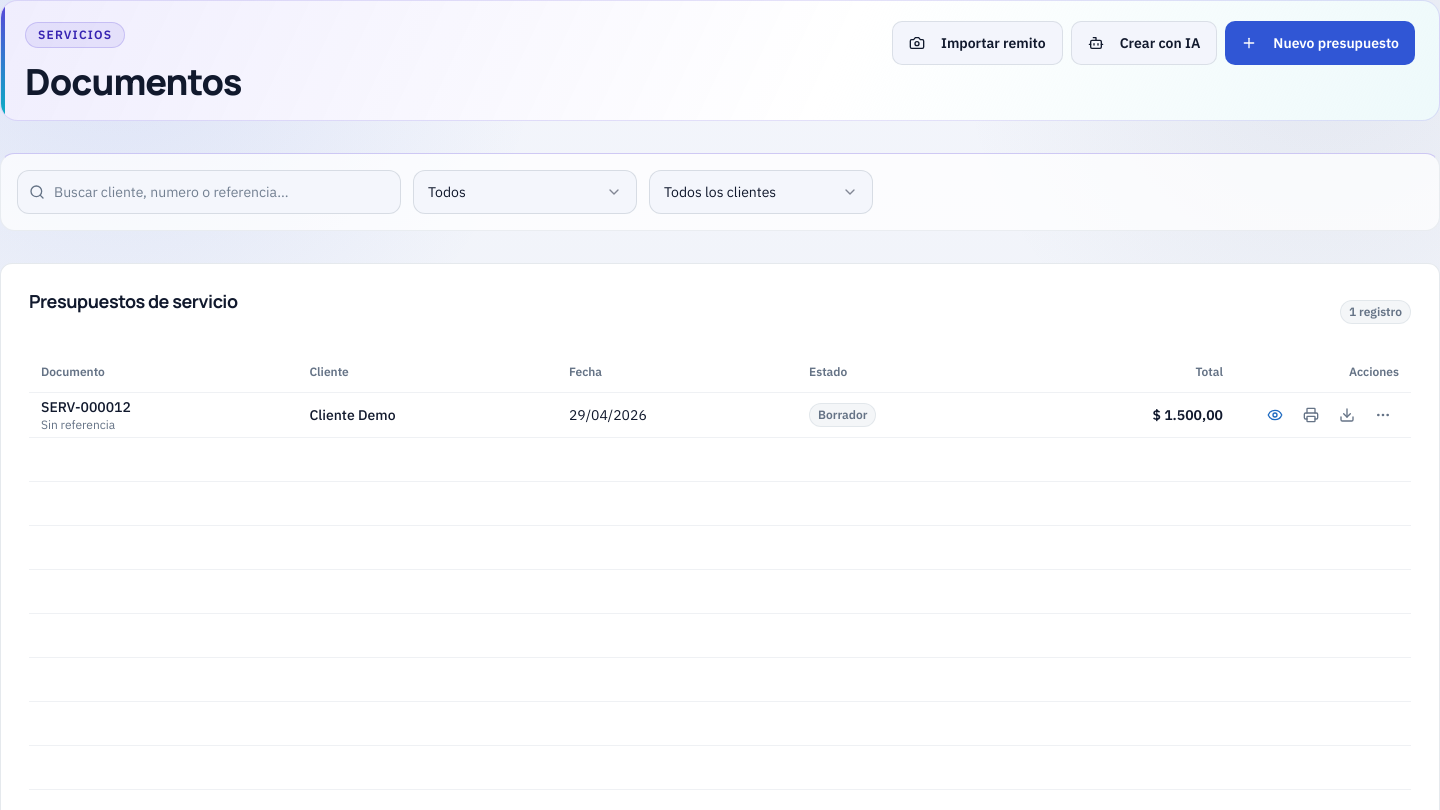
ServiceDocumentsPage › opens the AI assistant and renders a generated price preview
Step 1. Click the button "Crear con IA" → (1144, 43), box [1071,21,1217,65]
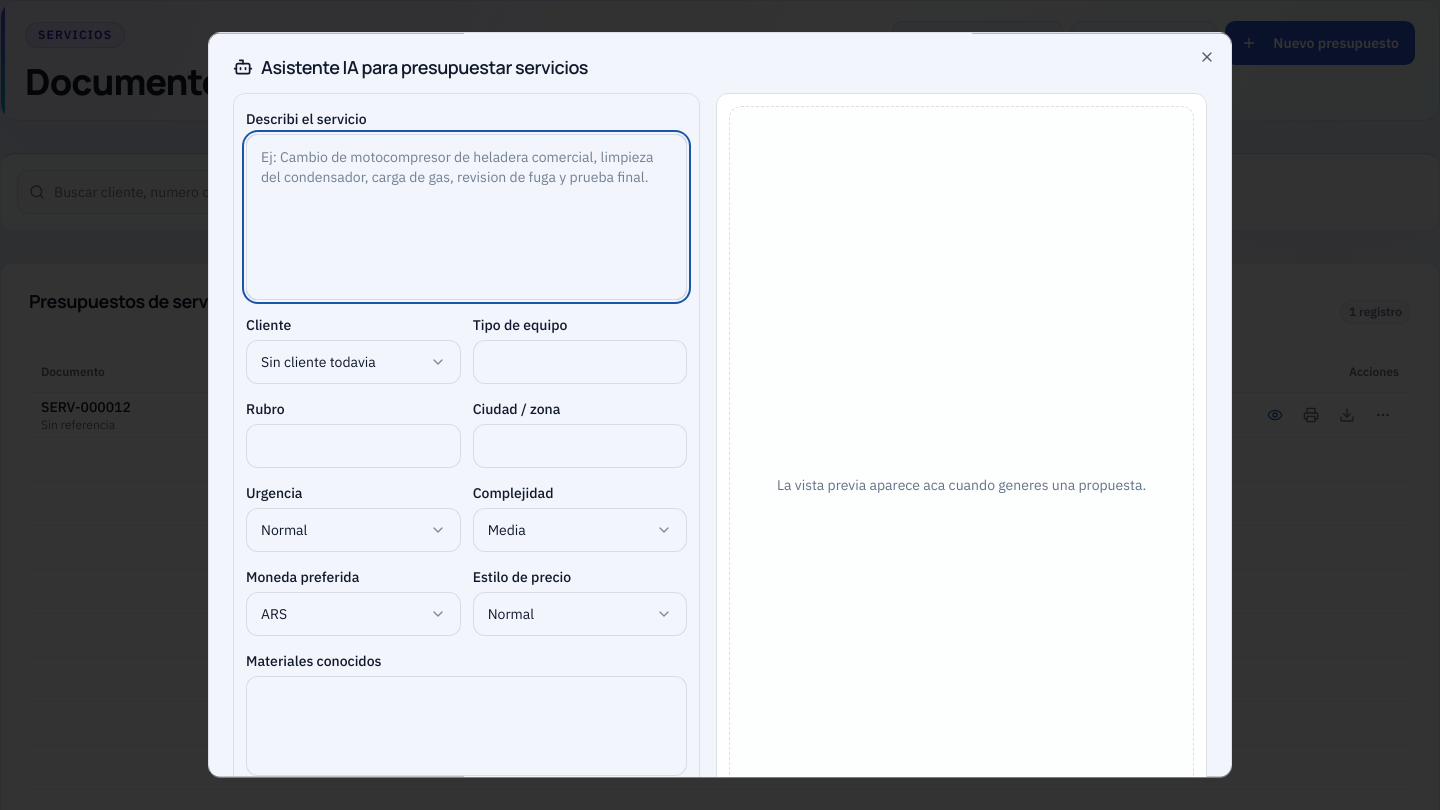
Result: the heading "Asistente IA para presupuestar servicios" is shown at [233,55,588,79]
Step 2. Replace the text in the text box with placeholder "Cambio de motocompresor" with "Limpieza de aire acondicionado split, revision y prueba." → (467, 217), box [246,134,687,300]
(page scrolled)
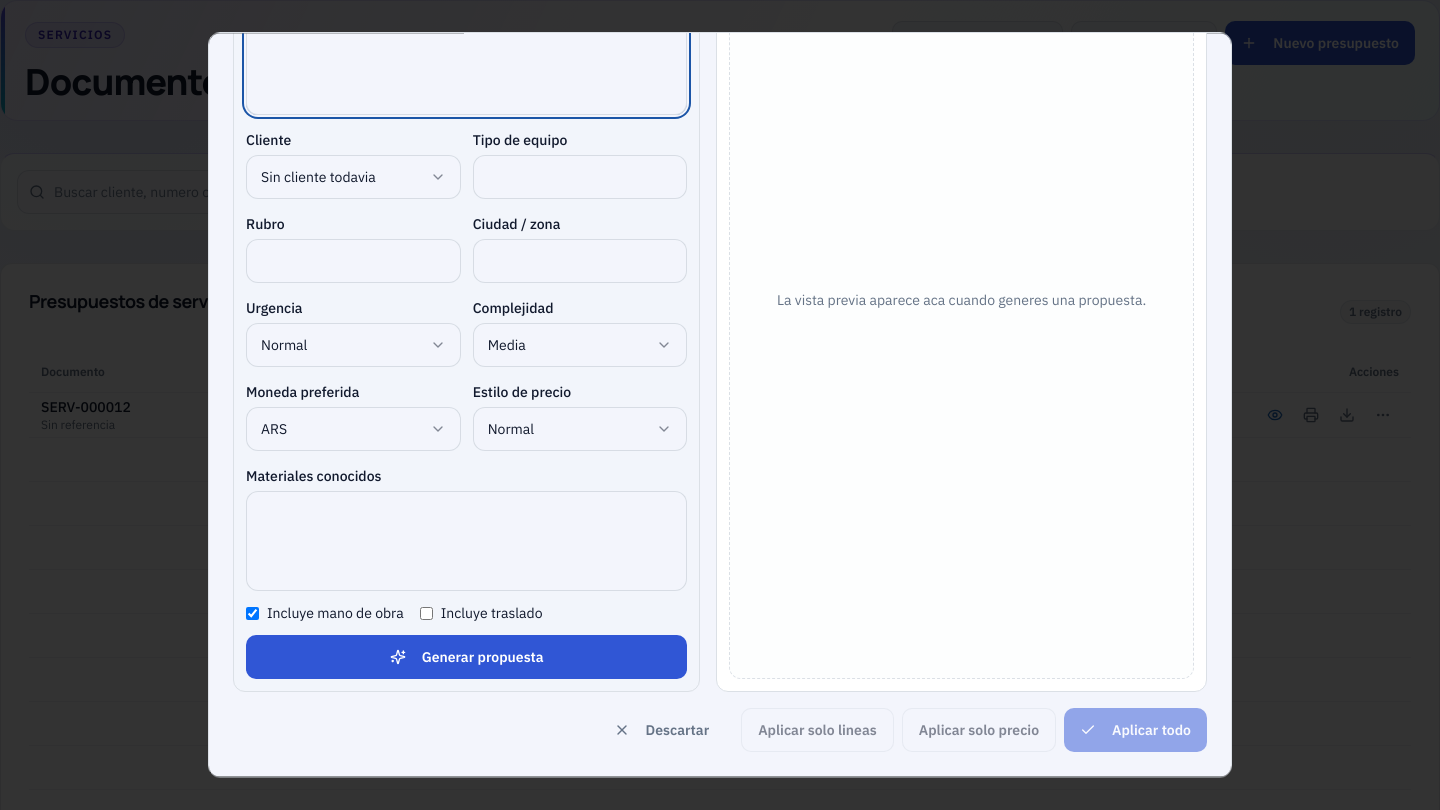
Step 3. Click the button "Generar propuesta" → (467, 657), box [246,635,687,679]
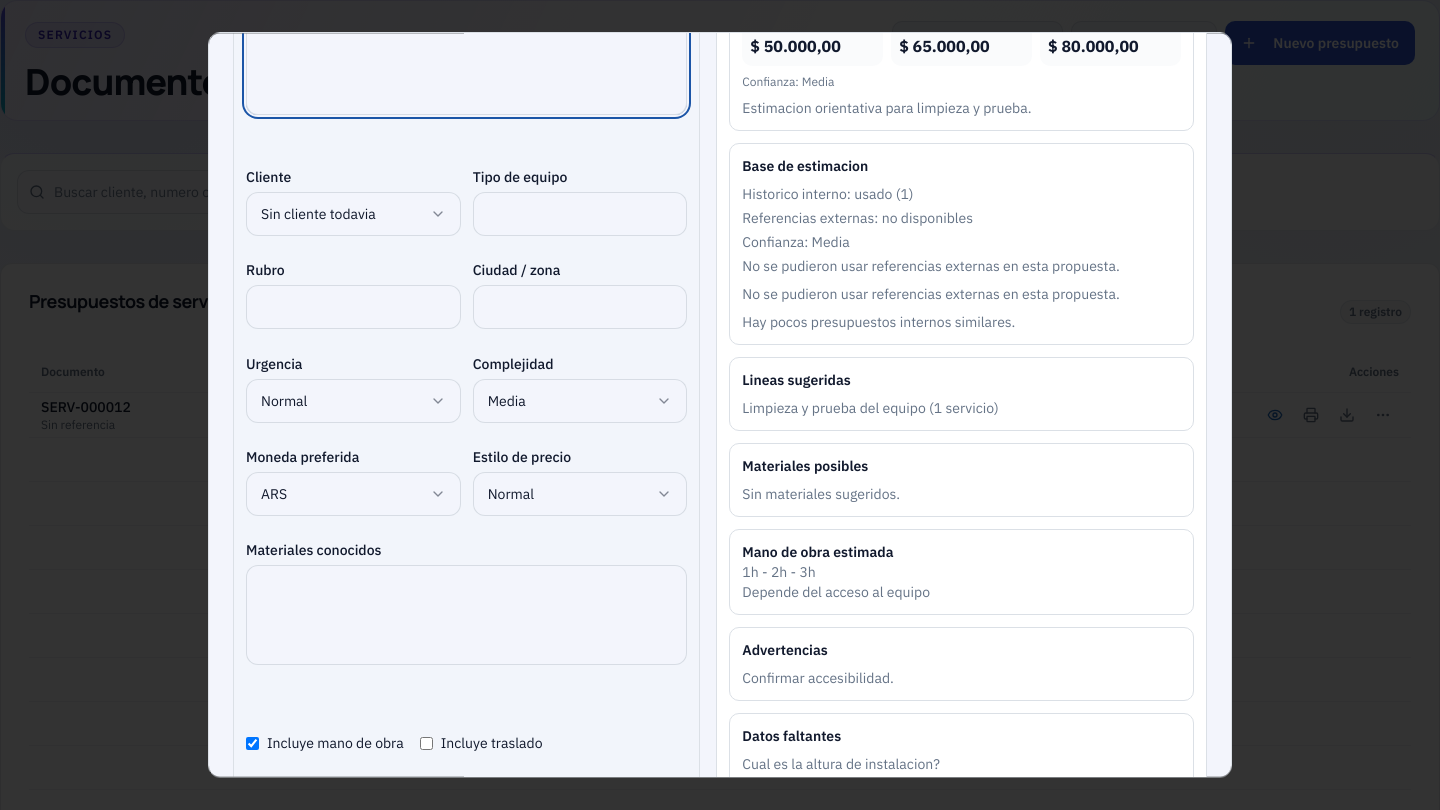
Result: the text "Base de estimacion" is shown at [742,157,868,175]
Result: the text "Referencias externas: no disponibles" is shown at [742,209,973,227]
Result: the list item "Limpieza y prueba del equipo (1 servicio)" is shown at [742,399,999,417]
